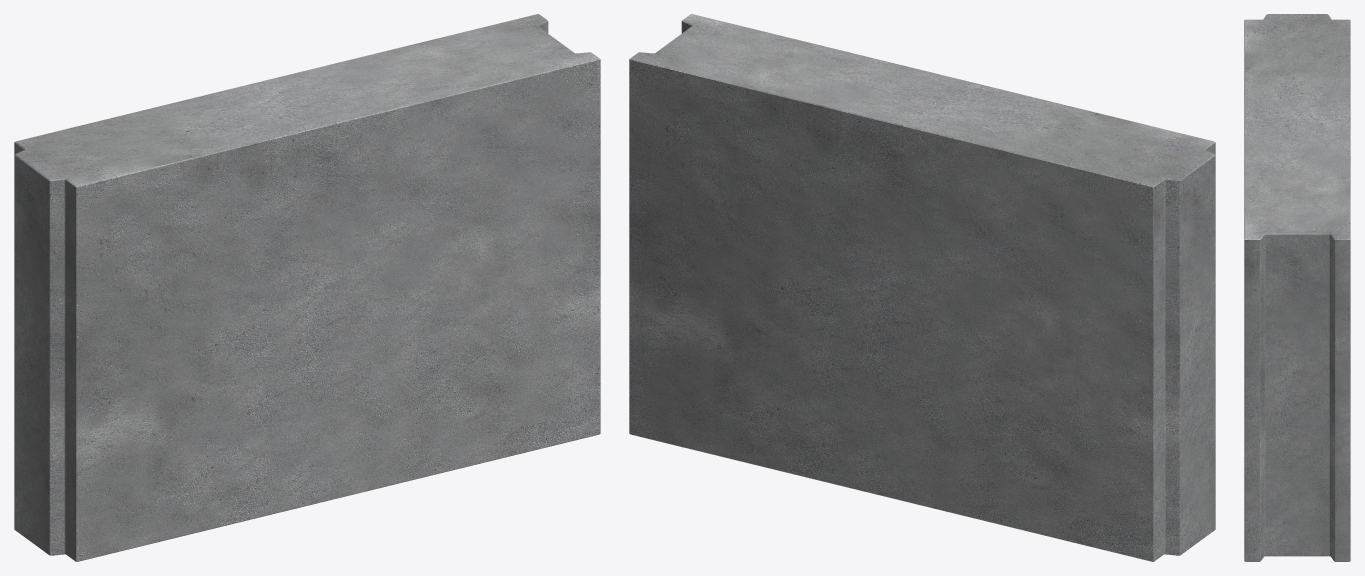
3 views of the same model, side by side, from view 1: azimuth 30°, elevation 25°; view 2: azimuth 150°, elevation 25°; view 3: azimuth 270°, elevation 25° (orthographic). The views are drawn at different scales.
Parts seen in each view (by area): view 1: foam_concrete_block_2; view 2: foam_concrete_block_2; view 3: foam_concrete_block_2.
Boxes of the visible parts, bbox=[...] form: foam_concrete_block_2: bbox=[14, 14, 600, 561]; foam_concrete_block_2: bbox=[629, 14, 1215, 561]; foam_concrete_block_2: bbox=[1244, 14, 1350, 561].
Size of the model in its own units: 7.57 by 5.05 by 1.51.
